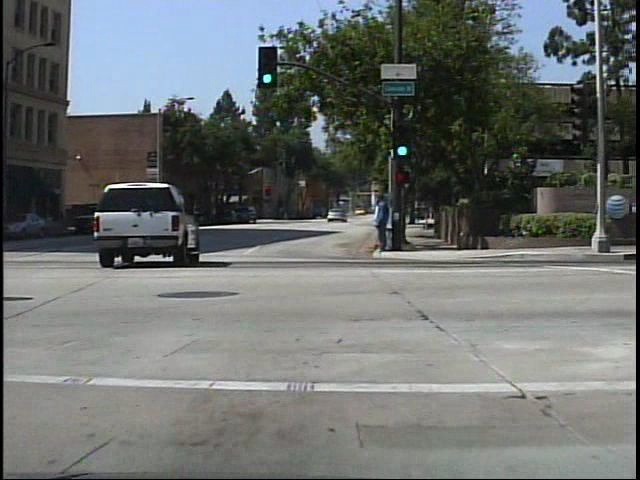person: (369, 190, 392, 253), (375, 195, 393, 251)
